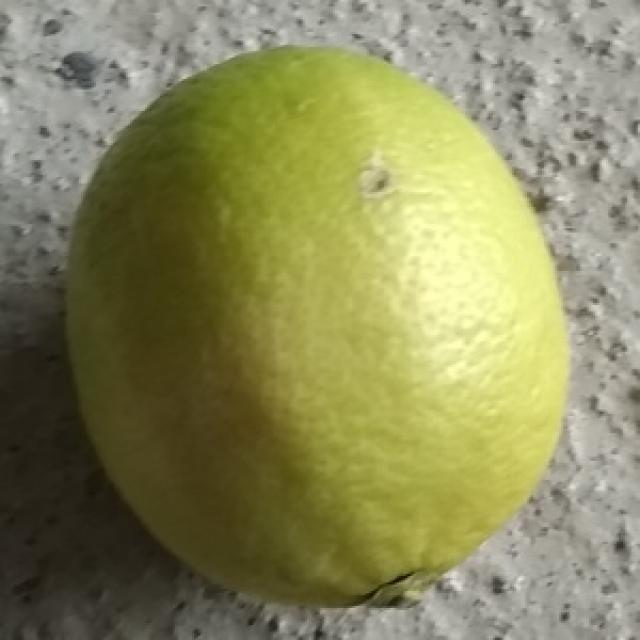Lemon: (62, 37, 574, 608)
